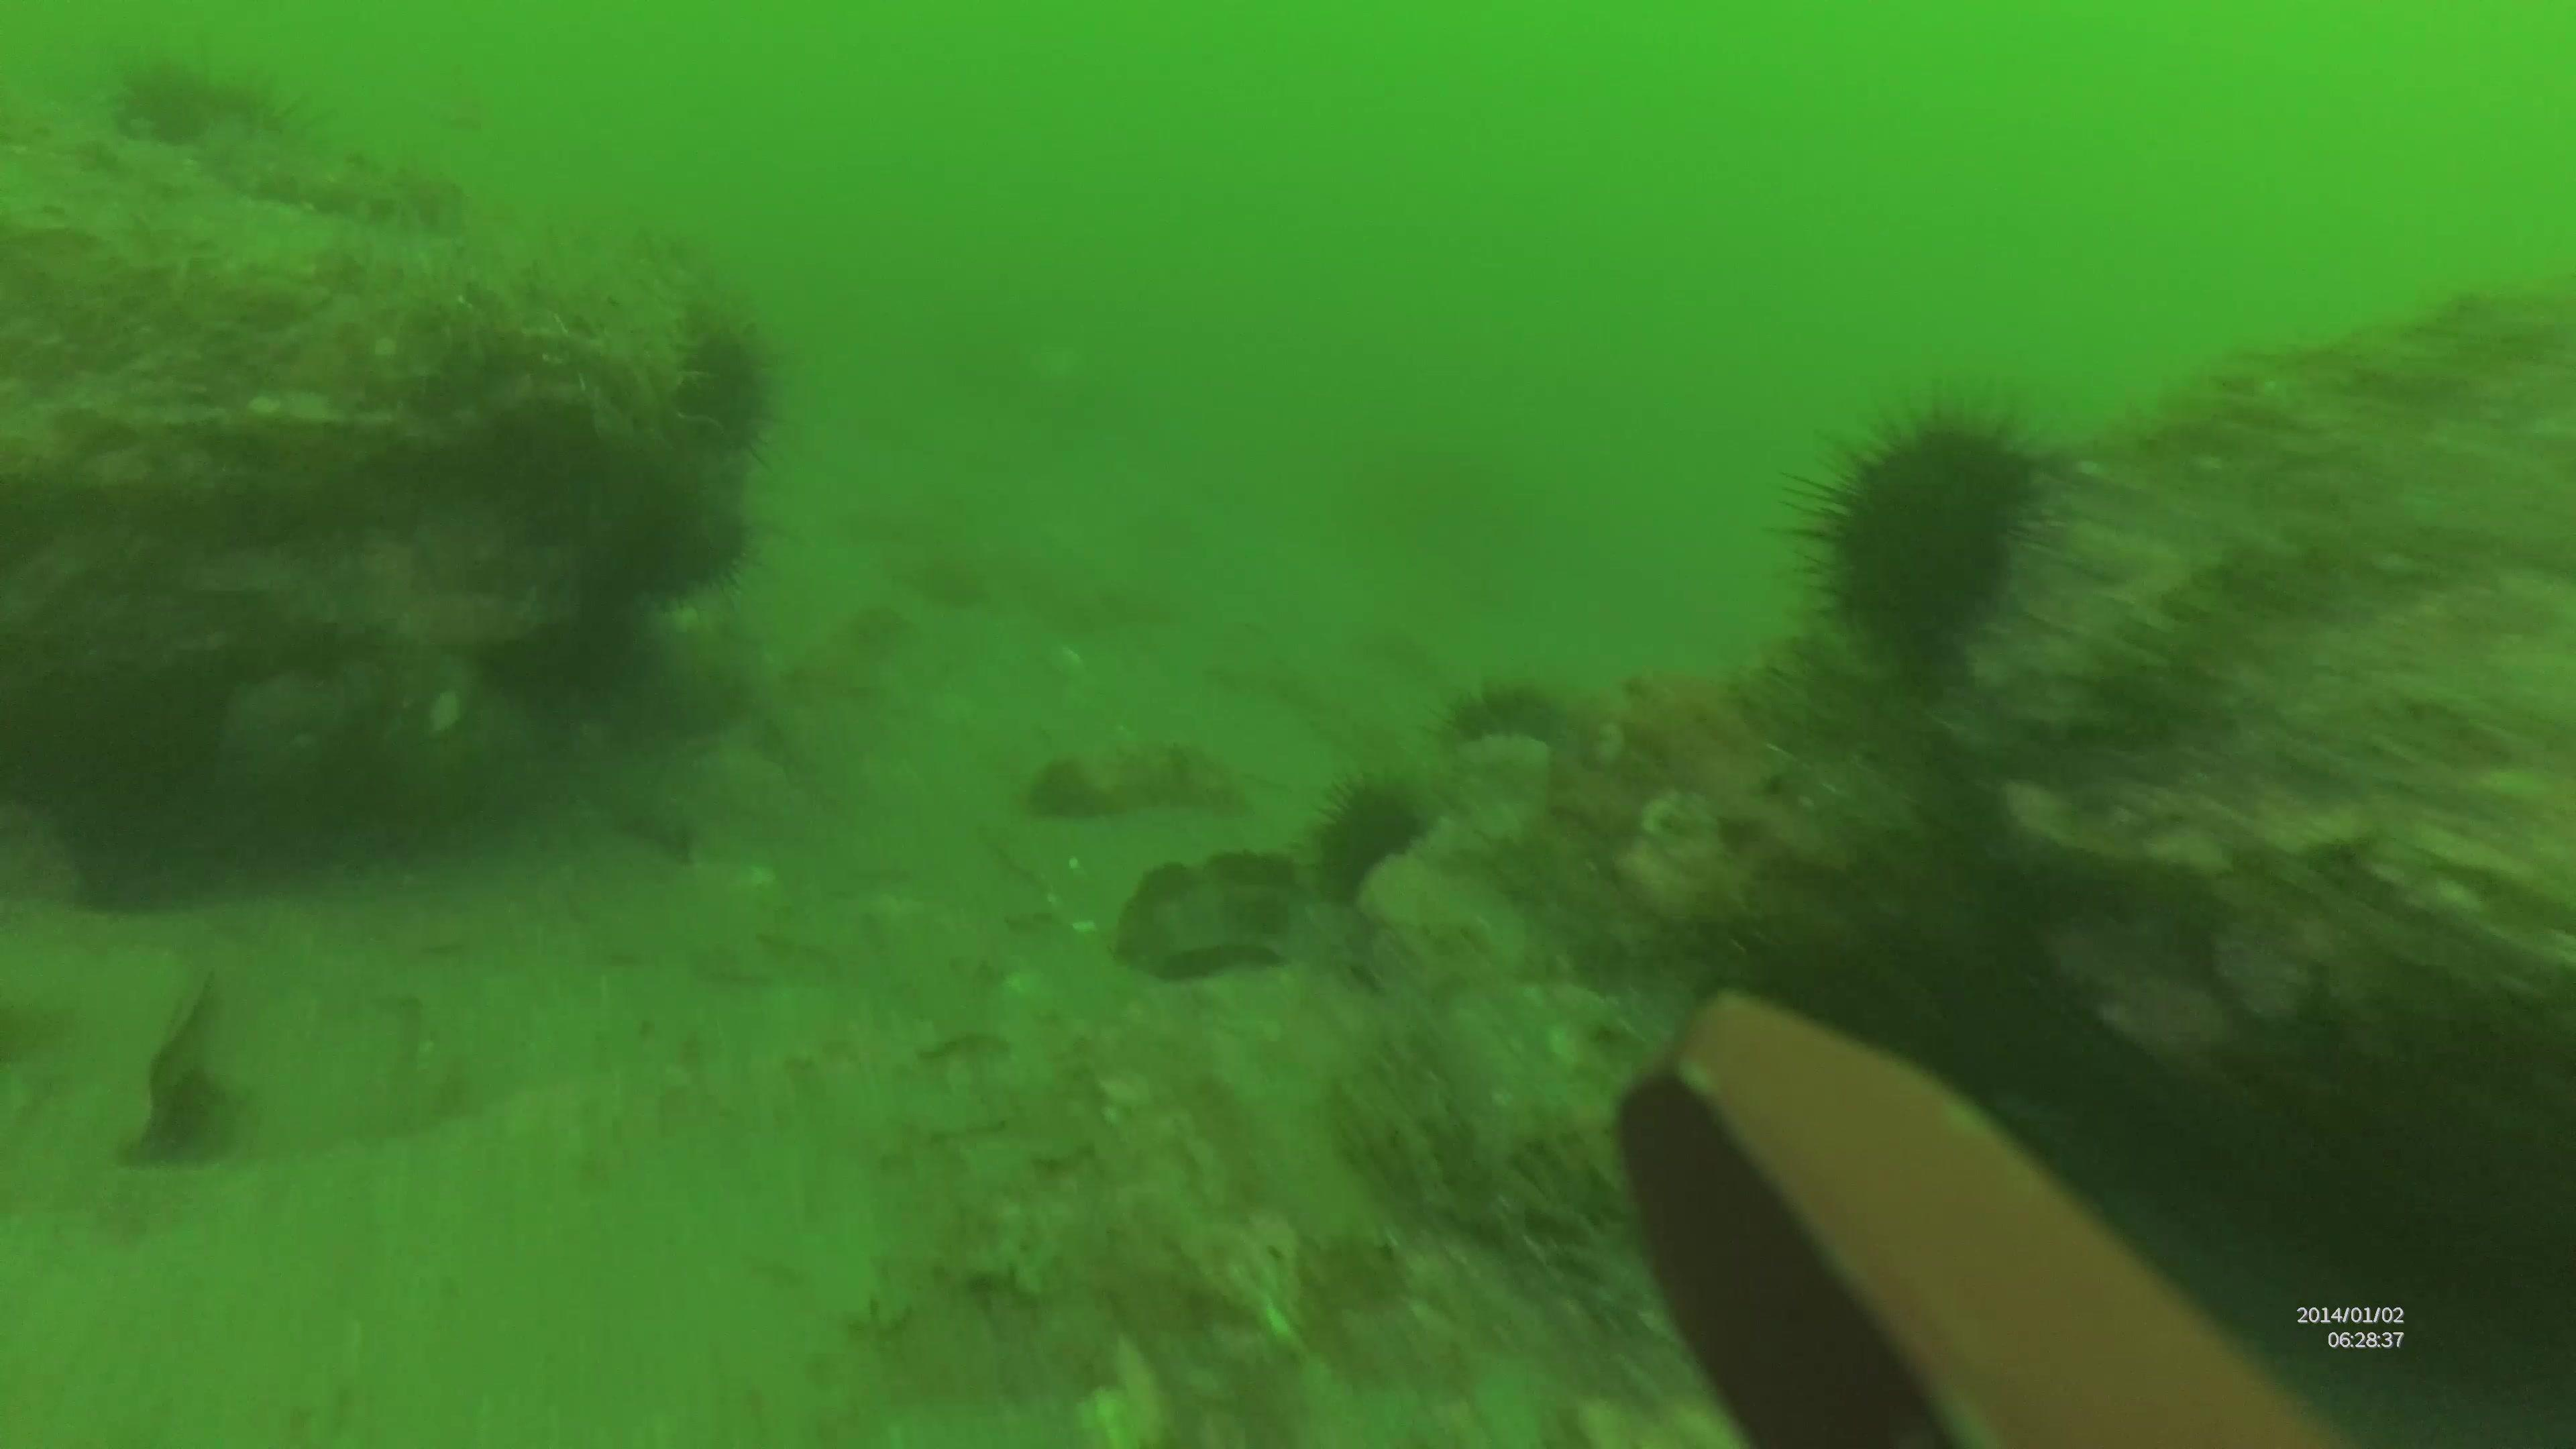echinus: (1785, 395, 2065, 671), (1309, 780, 1430, 913), (1438, 679, 1568, 754)
holothurian: (180, 127, 483, 228), (119, 48, 318, 156)
